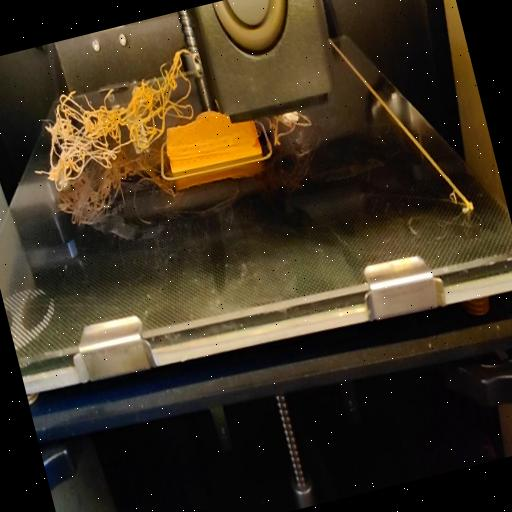spaghetti: (12, 44, 218, 194), (265, 107, 319, 145)
